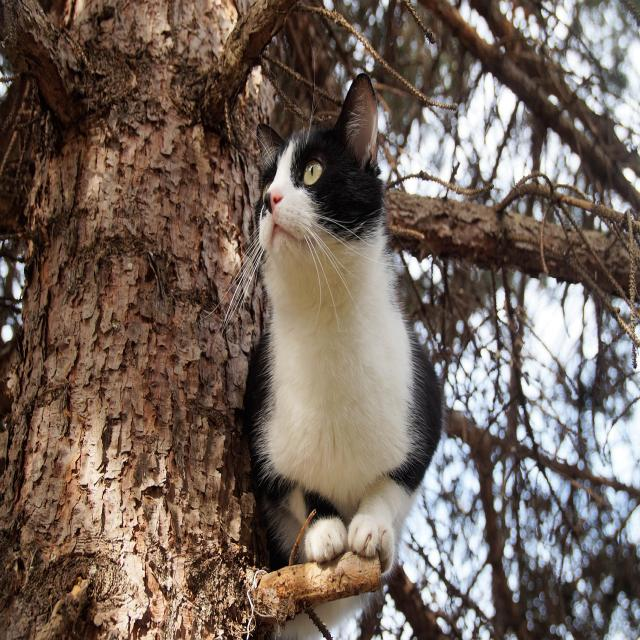cat: (252, 72, 440, 567)
